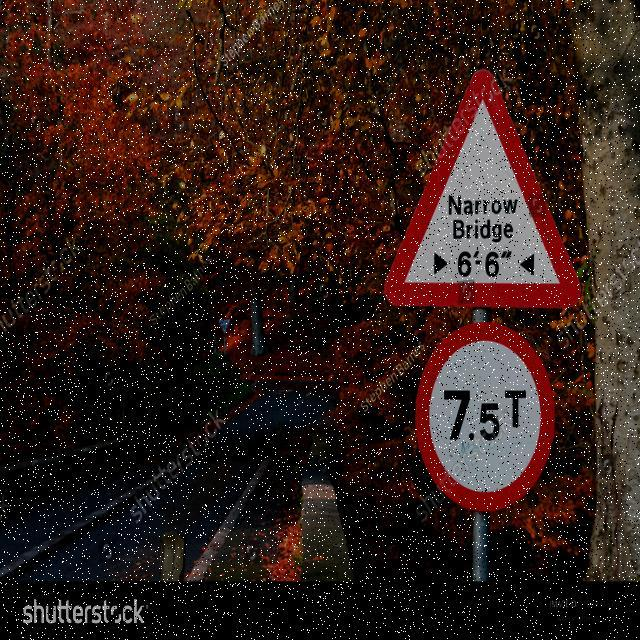Traffic sign: (377, 63, 588, 521)
